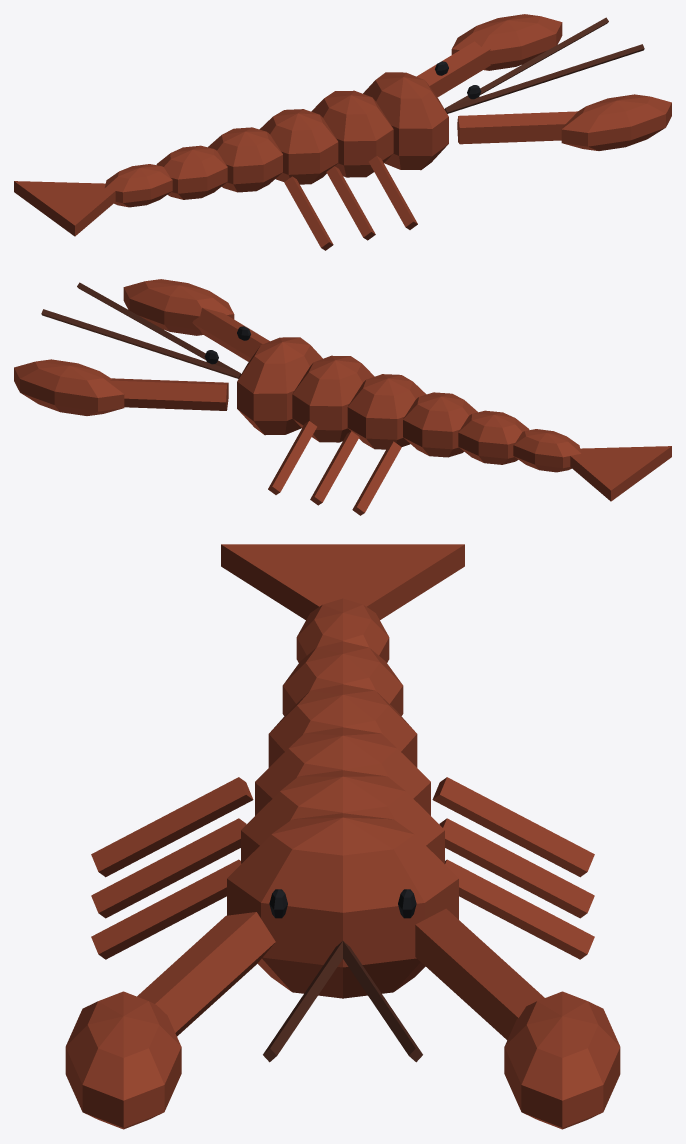
File: fish-crayfish.glb
3 renders of one model, top to bottom at view 1: azimuth 30°, elevation 25°; view 2: azimuth 150°, elevation 25°; view 3: azimuth 270°, elevation 25°, orthographic. The views are drawn at different scales.
Parts seen in each view (by area): view 1: fish-crayfish; view 2: fish-crayfish; view 3: fish-crayfish.
Part boxes in pixels (left/top/right/bottom): fish-crayfish: left=14, top=14, right=671, bottom=250; fish-crayfish: left=14, top=279, right=671, bottom=515; fish-crayfish: left=65, top=544, right=620, bottom=1129.
Size of the model in its own units: 1.1 by 0.1754 by 0.4551.
